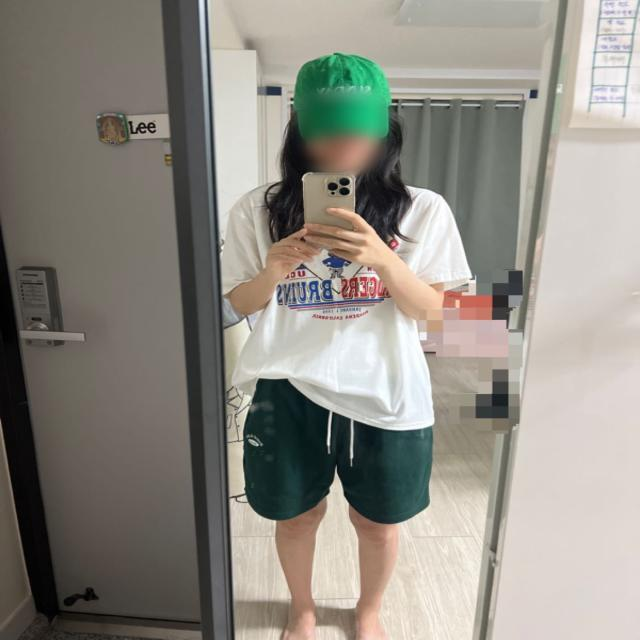shortpants: (245, 372, 431, 527)
shortsleeve: (224, 177, 470, 429)
